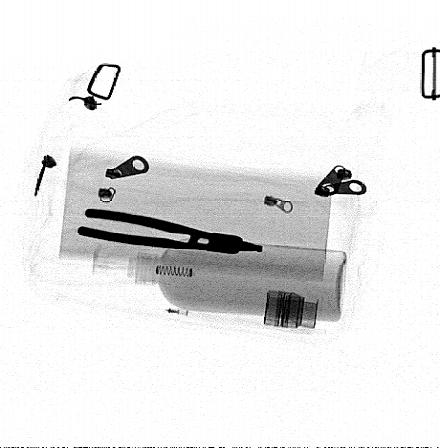Pliers: (76, 208, 263, 254)
